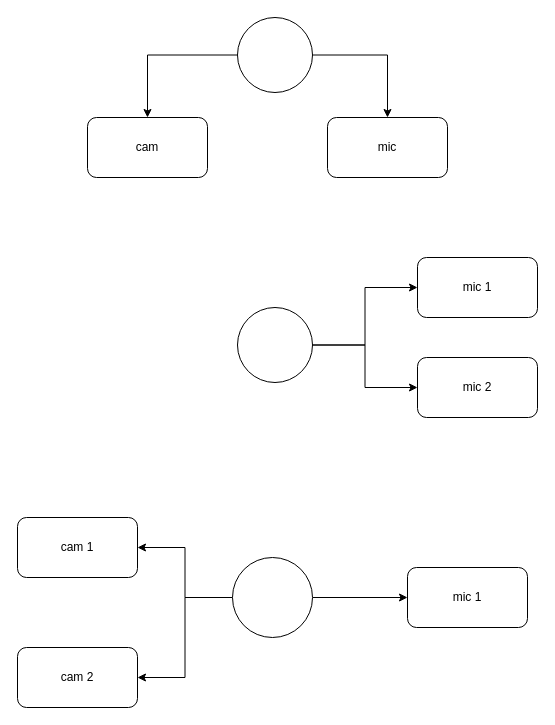
Some shapes in this 555 by 725 pixel diagram are drawn without their labels. The centre of each missing label's shape, as x and y in pixels:
node 1: the point at 274,54
node 2: the point at 274,344
node 3: the point at 272,597
